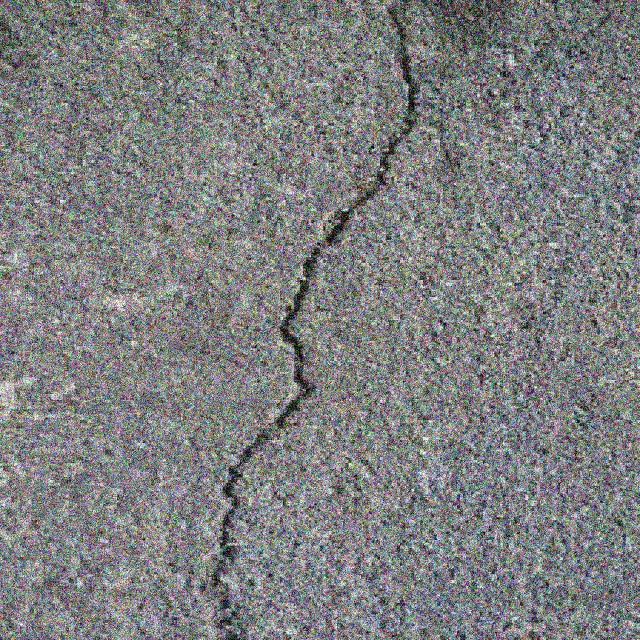SurfaceCrack: (162, 0, 422, 640)
